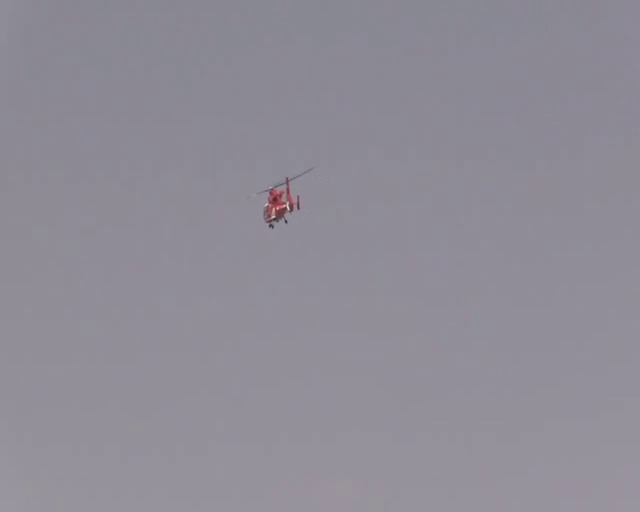HELICOPTER: (253, 166, 315, 229)
